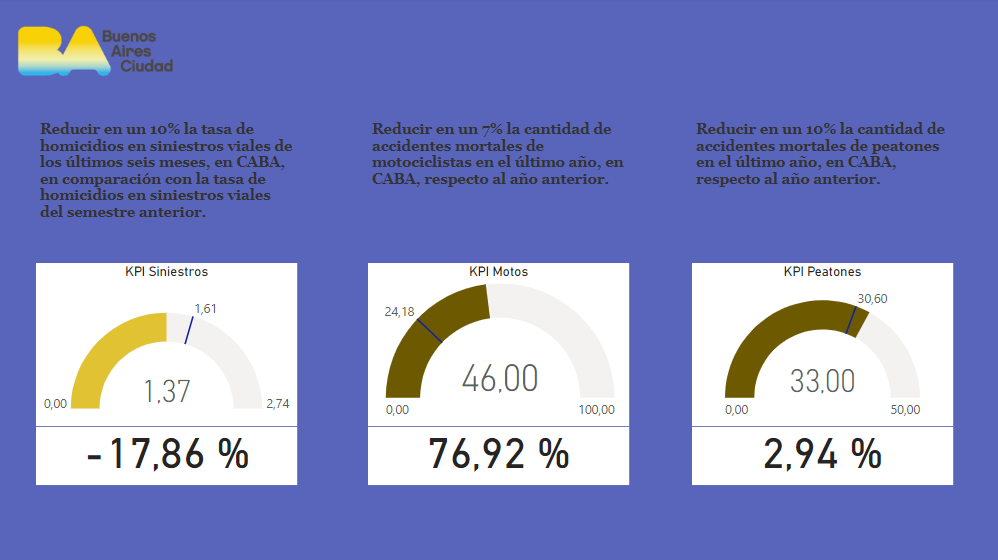

Layout of this report page (visuals, bound fields, positions):
{"tool":"powerbi","page":{"name":"KPI's","canvas":[1280,720],"ordinal":1},"visuals":[{"type":"image","box":[0,0,251.1,134.7],"z":0},{"type":"gauge","title":"KPI Siniestros","fields":{"Y":["3KPI.Tasa Homicidios2"],"TargetValue":["3KPI.Tasa Homicidios"]},"box":[49.7,337.8,332.7,207.8],"z":1000},{"type":"gauge","title":"KPI Motos","fields":{"MinValue":["3KPI.MotosMin"],"MaxValue":["3KPI.MotosMax"],"TargetValue":["3KPI.MotoObjetivo"],"Y":["3KPI.Moto2021"]},"box":[473,337.8,332.7,207.8],"z":2000},{"type":"gauge","title":"KPI Peatones","fields":{"MaxValue":["3KPI.PeatonesMax"],"MinValue":["3KPI.PeatonesMin"],"TargetValue":["3KPI.PeatonObjetivo"],"Y":["3KPI.Peaton2021"]},"box":[886.1,337.8,332.7,207.8],"z":3000},{"type":"textbox","box":[49.7,151.7,332.7,145.3],"z":4000},{"type":"textbox","box":[473,151.7,332.7,145.3],"z":5000},{"type":"textbox","box":[886.1,151.7,332.7,145.3],"z":6000},{"type":"card","fields":{"Values":["3KPI.KPI moto"]},"box":[473,546.9,332.7,73.9],"z":7000},{"type":"card","fields":{"Values":["3KPI.KPI peaton"]},"box":[886.1,546.9,332.7,73.9],"z":8000},{"type":"card","fields":{"Values":["3KPI.%KPI1"]},"box":[49.7,546.9,332.7,73.9],"z":9000}]}

Visuals, with their boxes in screenshot pixels (x1, y1, x2, y2), scaled from the page's 1280x720 canvas onto the 998x560 screenshot:
image: (left=0, top=0, right=196, bottom=105)
"KPI Siniestros" gauge: (left=39, top=263, right=298, bottom=424)
"KPI Motos" gauge: (left=369, top=263, right=628, bottom=424)
"KPI Peatones" gauge: (left=691, top=263, right=950, bottom=424)
textbox: (left=39, top=118, right=298, bottom=231)
textbox: (left=369, top=118, right=628, bottom=231)
textbox: (left=691, top=118, right=950, bottom=231)
card - 3KPI.KPI moto: (left=369, top=425, right=628, bottom=483)
card - 3KPI.KPI peaton: (left=691, top=425, right=950, bottom=483)
card - 3KPI.%KPI1: (left=39, top=425, right=298, bottom=483)
